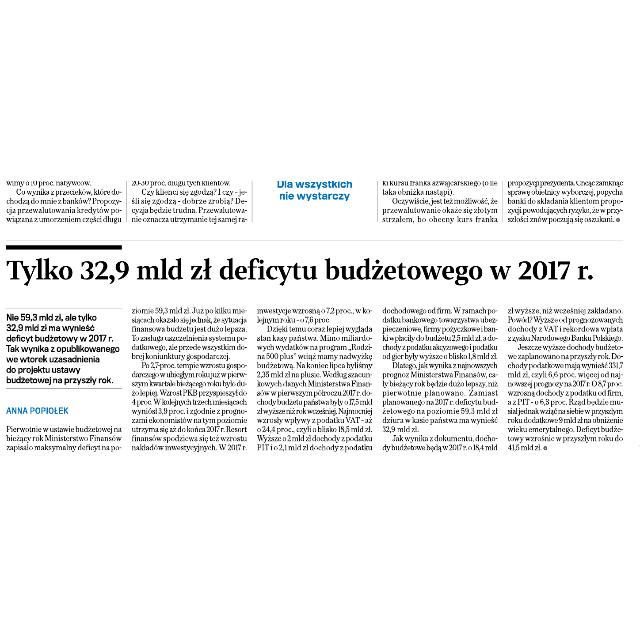author: (2, 403, 74, 417)
body: (255, 302, 375, 453), (504, 304, 626, 452), (129, 302, 249, 452), (380, 306, 500, 452), (5, 422, 125, 454)
lead: (3, 310, 121, 388)
title: (5, 250, 598, 290)
